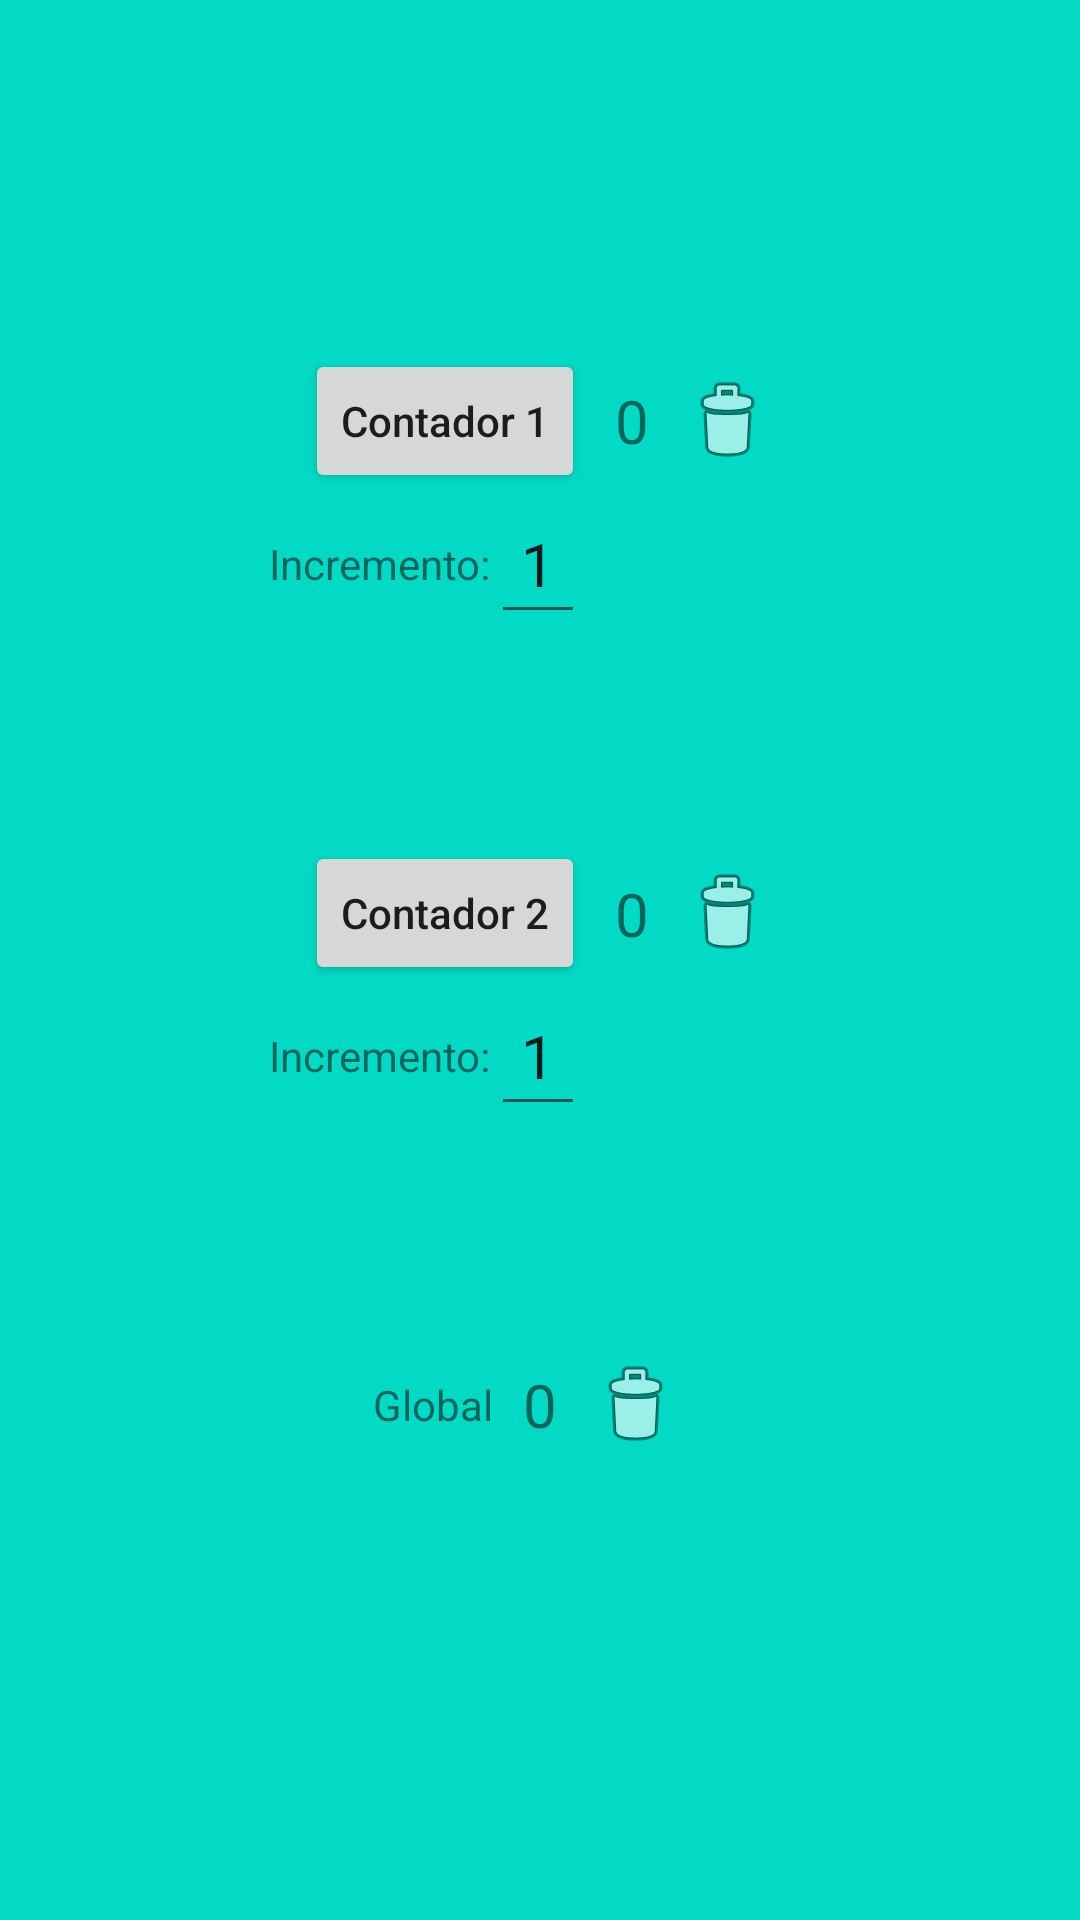

Locate icon controls on the screen. Image size 1080w x 1920h, boxes as box=[x1, y1, x2, y2].
delete: box=[700, 382, 755, 457], box=[700, 874, 755, 949], box=[608, 1366, 663, 1441]
